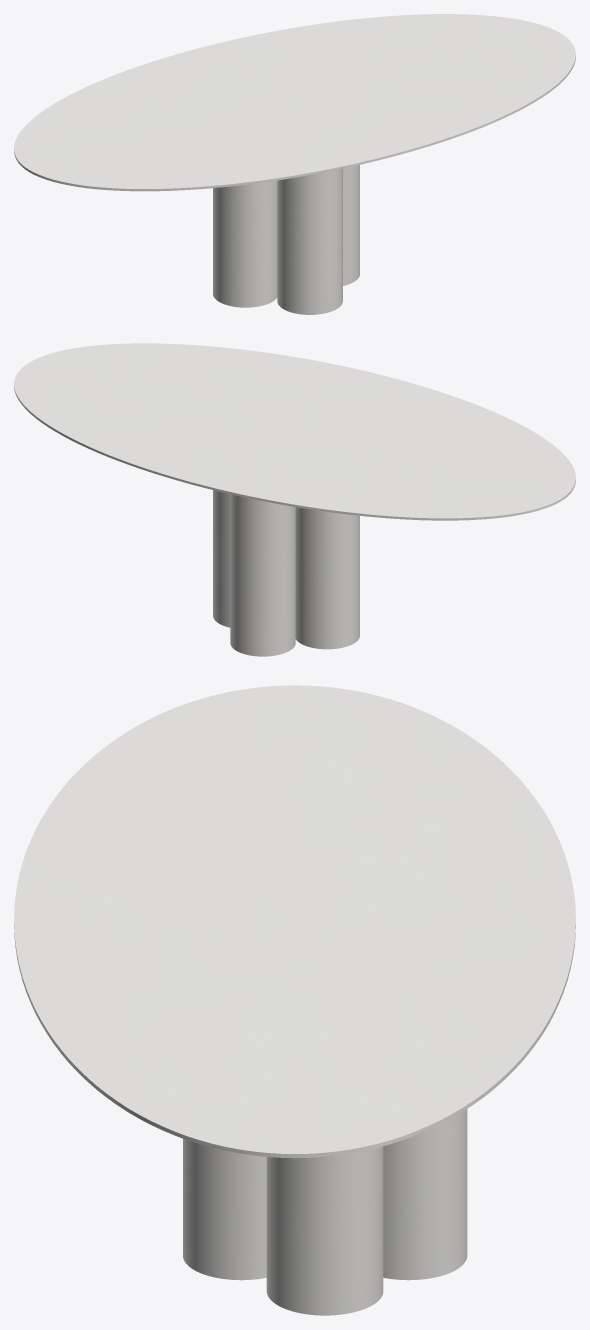
Rendered from purewhite_ellips_facet_secondtable.glb.
The picture shows the model from 3 angles, top to bottom: view 1: azimuth 30°, elevation 25°; view 2: azimuth 150°, elevation 25°; view 3: azimuth 270°, elevation 25°; orthographic projection. The views are drawn at different scales.
Visible parts, largest first — view 1: facet_ellips, secondtable; view 2: facet_ellips, secondtable; view 3: facet_ellips, secondtable.
Part boxes in pixels (left/top/right/bottom): facet_ellips: left=14, top=14, right=575, bottom=191; secondtable: left=213, top=165, right=359, bottom=314; facet_ellips: left=14, top=343, right=575, bottom=520; secondtable: left=213, top=490, right=359, bottom=656; facet_ellips: left=14, top=685, right=575, bottom=1158; secondtable: left=183, top=1109, right=467, bottom=1315.
Bounding box in the file's own units: 7.5 × 2.5 × 3.8.
1 material, 1 textured.
